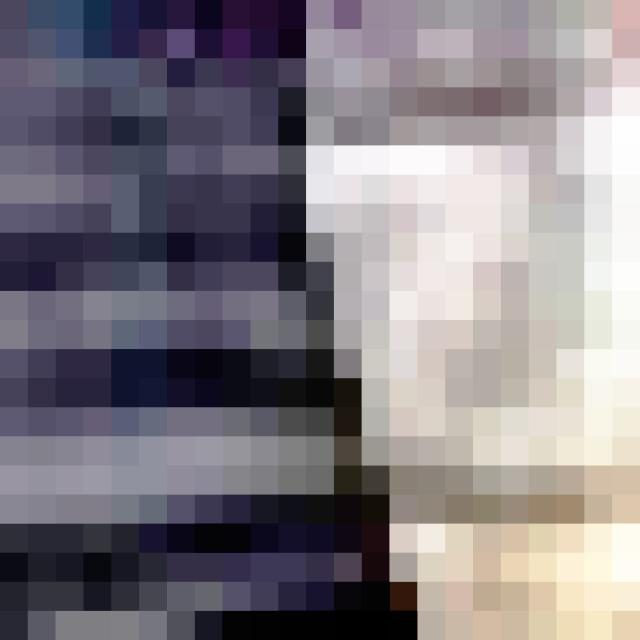arms: (306, 0, 640, 291)
